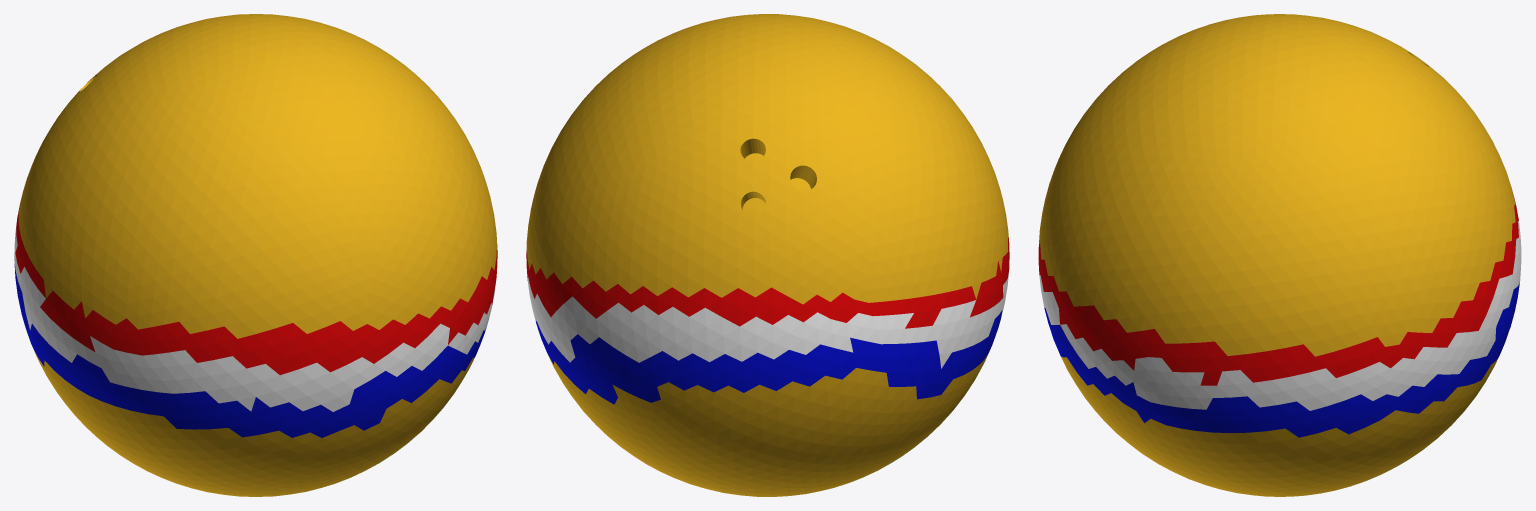
File: BowlingBall.fbx
3 renders of one model, left to right at view 1: azimuth 30°, elevation 25°; view 2: azimuth 150°, elevation 25°; view 3: azimuth 270°, elevation 25°, orthographic.
Parts seen in each view (by area): view 1: Icosphere; view 2: Icosphere; view 3: Icosphere.
Boxes of the visible parts, box(x1,y1,x2,y2) form: Icosphere: box(14, 14, 497, 496); Icosphere: box(526, 14, 1009, 496); Icosphere: box(1038, 14, 1521, 496).
Size of the model in its own units: 200 by 200 by 200.
